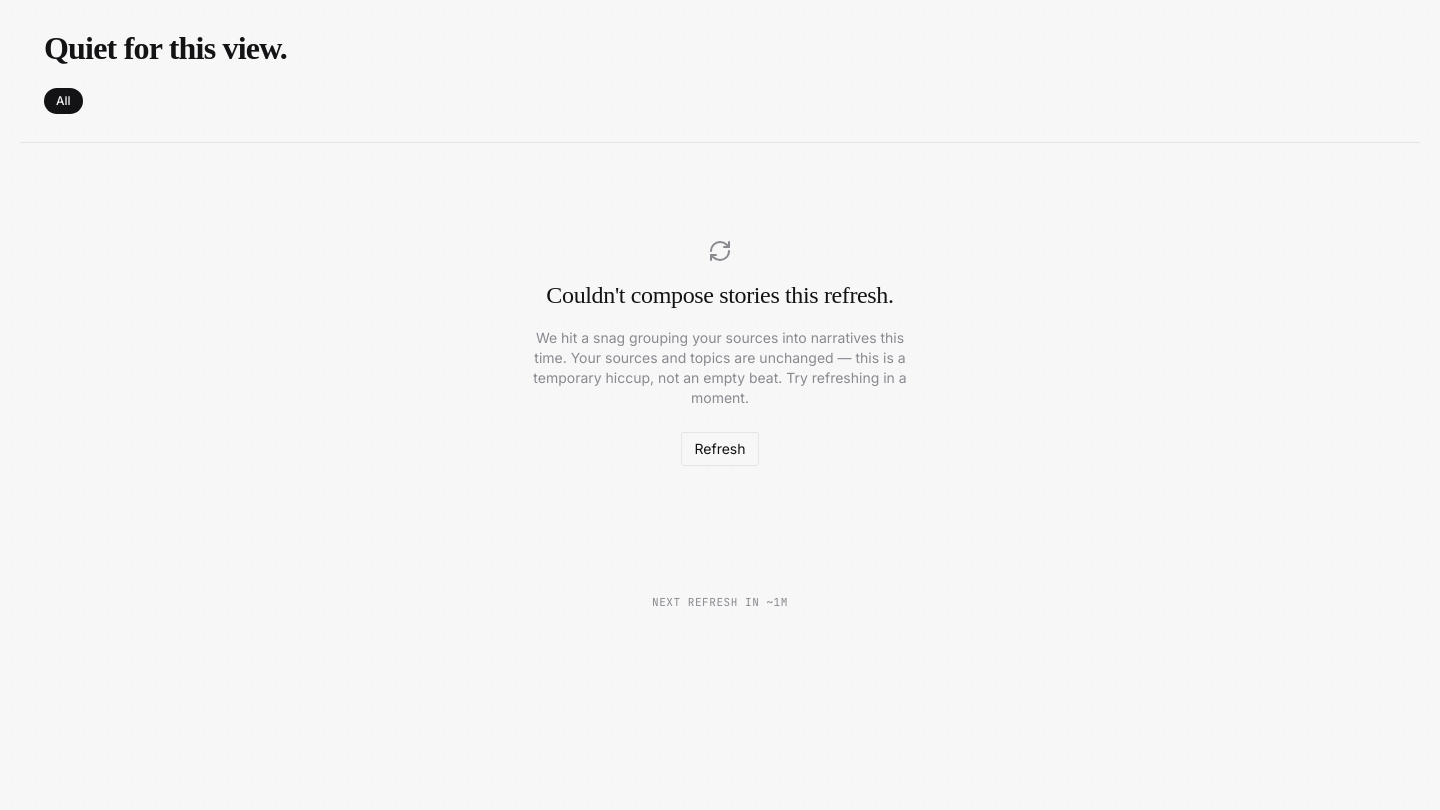
Test: Phase 2.2: overdue-refresh regression matrix › precedence: retry overrides overdue-default (retry keeps ?profile=default)
The width and height of the screenshot is (1440, 810).
Expected: the element with test id "dashboard-clustering-failed" is shown, [533, 239, 907, 466]
Click the button "Refresh". click: (720, 449)
box: [682, 432, 758, 466]
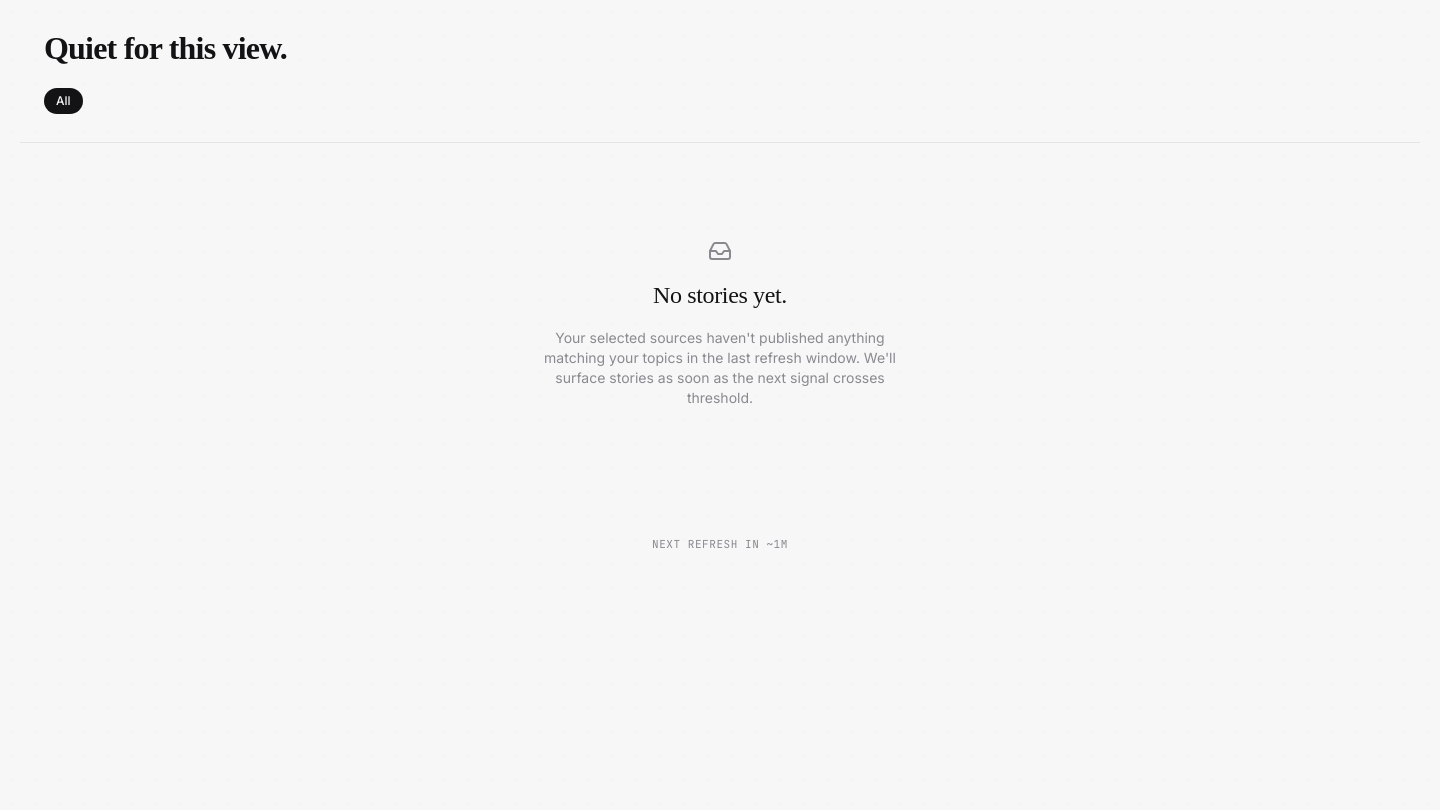
Result: the element with test id "dashboard-empty" is shown at [544, 239, 896, 406]
